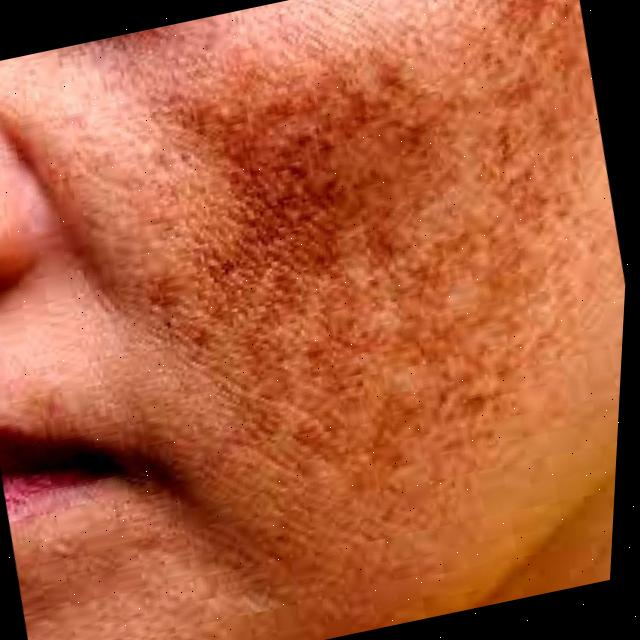Melasma: (115, 0, 621, 425)
